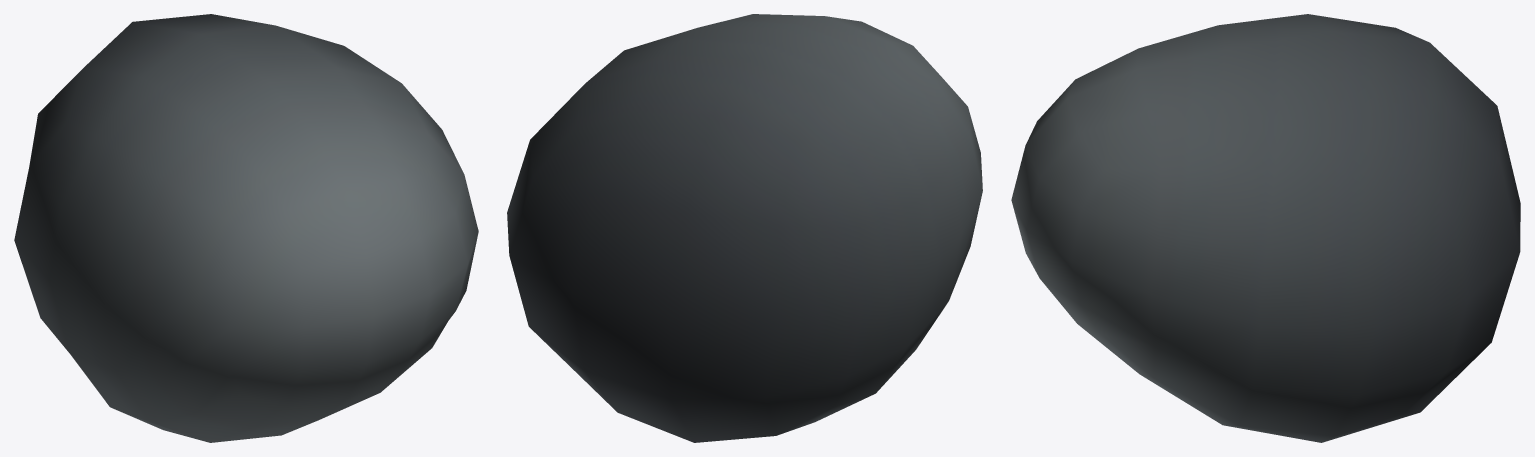
Rendered from Stone.fbx.
3 renders of one model, left to right at view 1: azimuth 30°, elevation 25°; view 2: azimuth 150°, elevation 25°; view 3: azimuth 270°, elevation 25°, orthographic.
Visible parts, largest first — view 1: Stone; view 2: Stone; view 3: Stone.
Boxes of the visible parts, left/top/right/bottom form: Stone: left=14, top=14, right=478, bottom=442; Stone: left=507, top=14, right=982, bottom=442; Stone: left=1011, top=14, right=1520, bottom=442.
Size of the model in its own units: 14.37 by 13.68 by 16.63.
